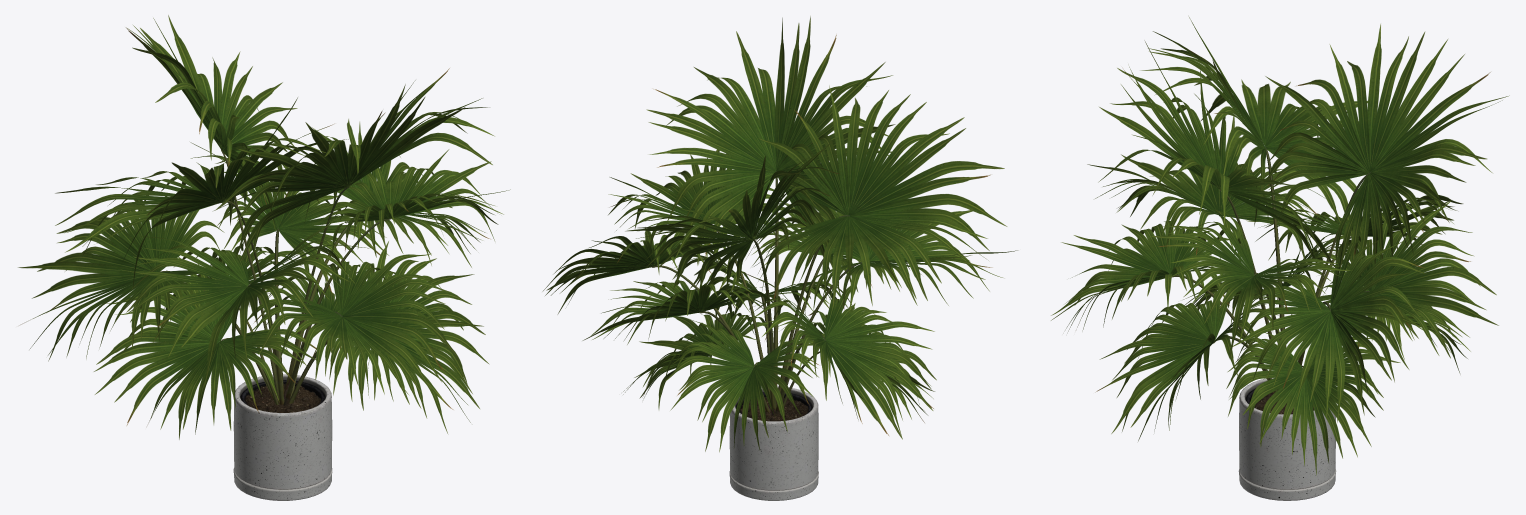
File: green-planter-fan-palm.glb
3 views of the same model, side by side, from view 1: azimuth 30°, elevation 25°; view 2: azimuth 150°, elevation 25°; view 3: azimuth 270°, elevation 25° (orthographic). The views are drawn at different scales.
Parts seen in each view (by area): view 1: LIVISTONA_CHINENSIS_LIVISTONA_CHINENSIS_Mat_0, PLANTER_TERRA_BASE_PLANTER_BOTTOM_CROSS_Mat_0; view 2: LIVISTONA_CHINENSIS_LIVISTONA_CHINENSIS_Mat_0, PLANTER_TERRA_BASE_PLANTER_BOTTOM_CROSS_Mat_0; view 3: LIVISTONA_CHINENSIS_LIVISTONA_CHINENSIS_Mat_0, PLANTER_TERRA_BASE_PLANTER_BOTTOM_CROSS_Mat_0.
Boxes of the visible parts, x1,y1,x2,y2 form: LIVISTONA_CHINENSIS_LIVISTONA_CHINENSIS_Mat_0: (18, 15, 510, 439); PLANTER_TERRA_BASE_PLANTER_BOTTOM_CROSS_Mat_0: (233, 374, 332, 500); LIVISTONA_CHINENSIS_LIVISTONA_CHINENSIS_Mat_0: (542, 16, 1017, 452); PLANTER_TERRA_BASE_PLANTER_BOTTOM_CROSS_Mat_0: (729, 386, 818, 500); LIVISTONA_CHINENSIS_LIVISTONA_CHINENSIS_Mat_0: (1051, 17, 1509, 475); PLANTER_TERRA_BASE_PLANTER_BOTTOM_CROSS_Mat_0: (1238, 377, 1336, 500).
Size of the model in its own units: 1.6 by 1.53 by 1.45.
Materials: 2 (2 with a texture image).
